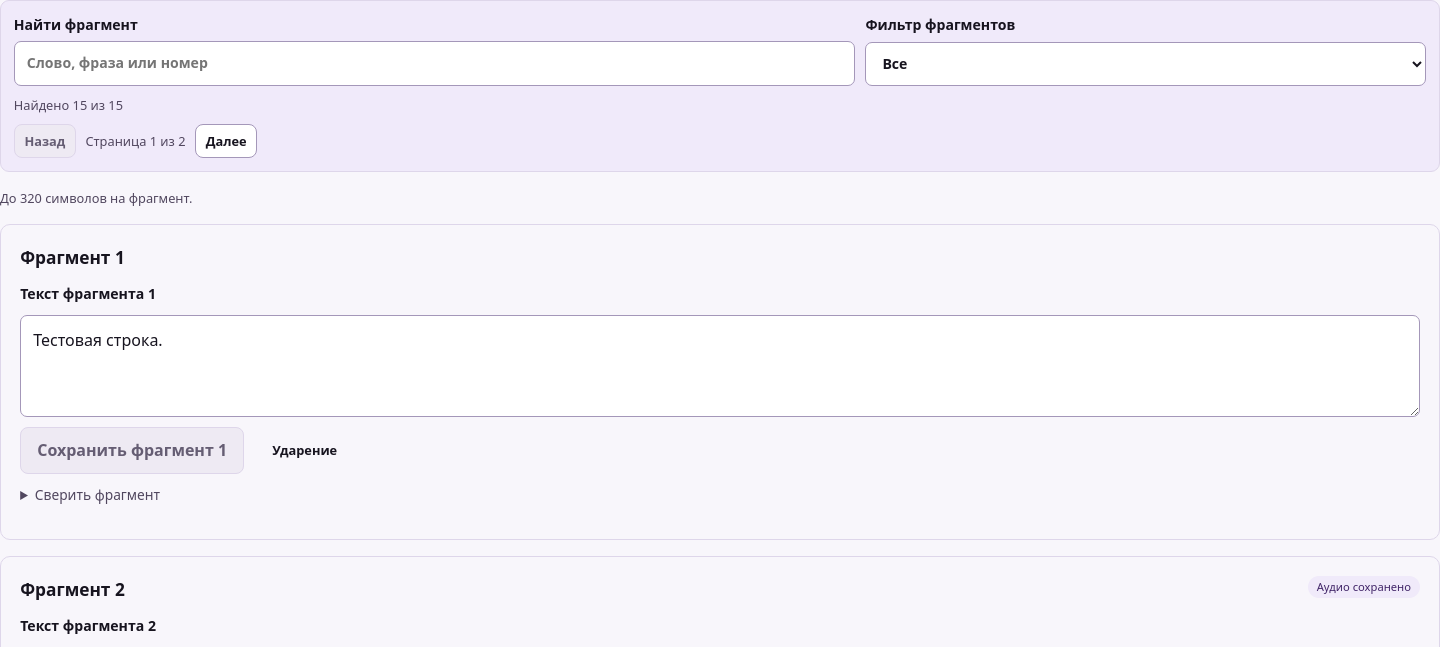
Test: retains an off-page draft through filtering and saves it from the draft list
The width and height of the screenshot is (1440, 647).
Later steps or results of the test are not shown.
expect the field labelled "Текст фрагмента 13" is not shown: met
Click the button with aria-label "Следующая страница": (226, 141) top-left (195, 124), bottom-right (257, 158)
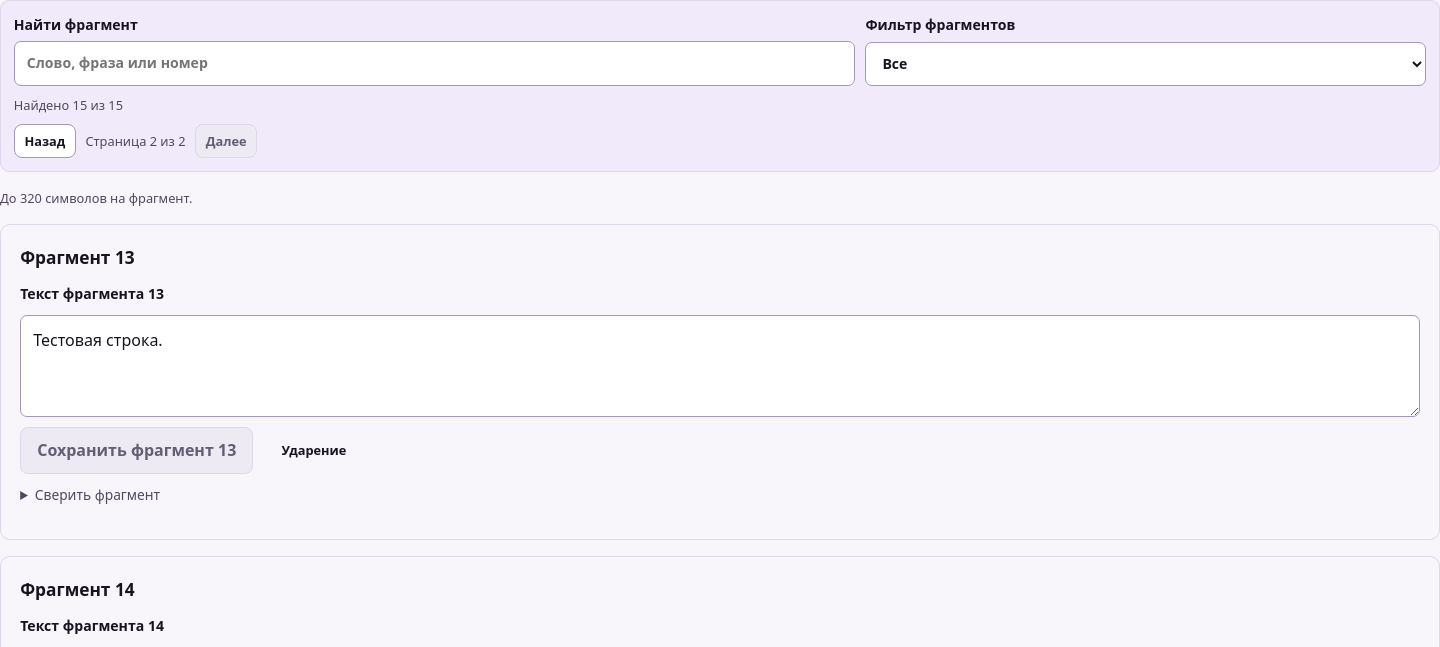
Replace the text in the text box labelled "Текст фрагмента 13" with "Черновик на другой странице.": (720, 366) top-left (20, 315), bottom-right (1420, 417)
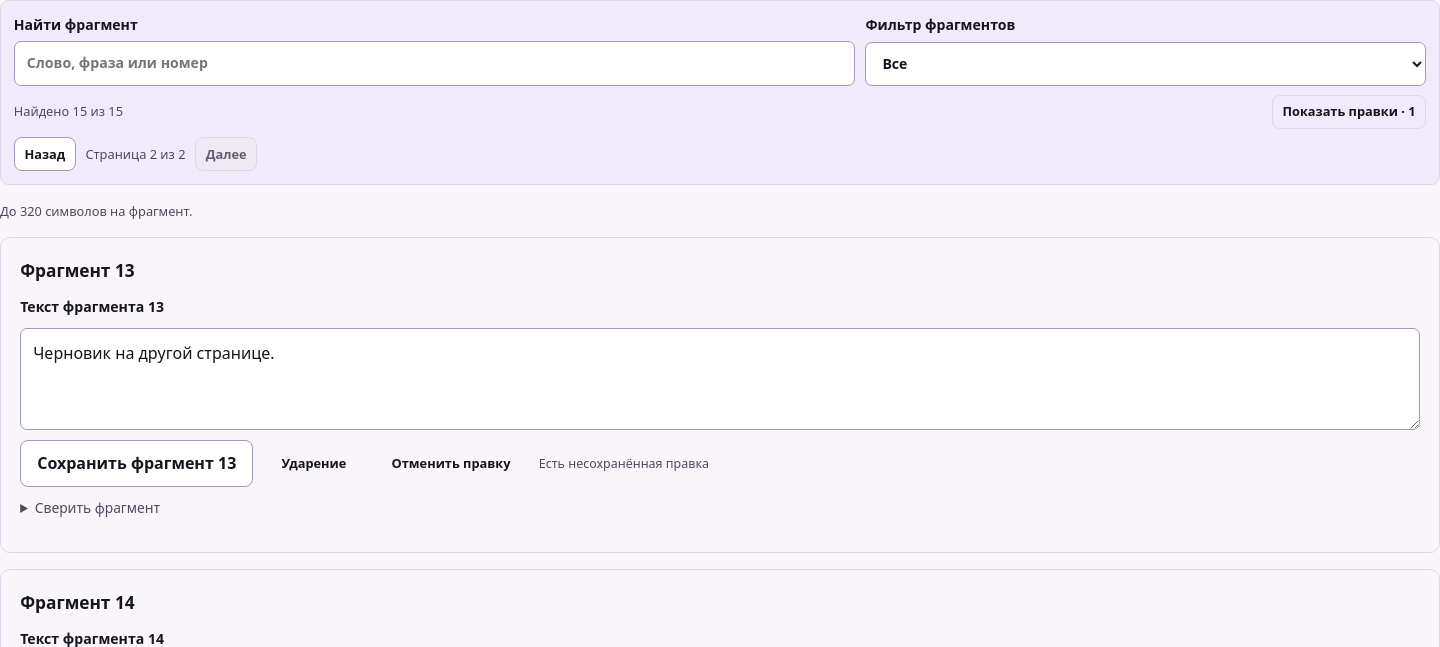
Select "С аудио" in the dropdown labelled "Фильтр фрагментов": (1146, 64) top-left (865, 42), bottom-right (1426, 86)
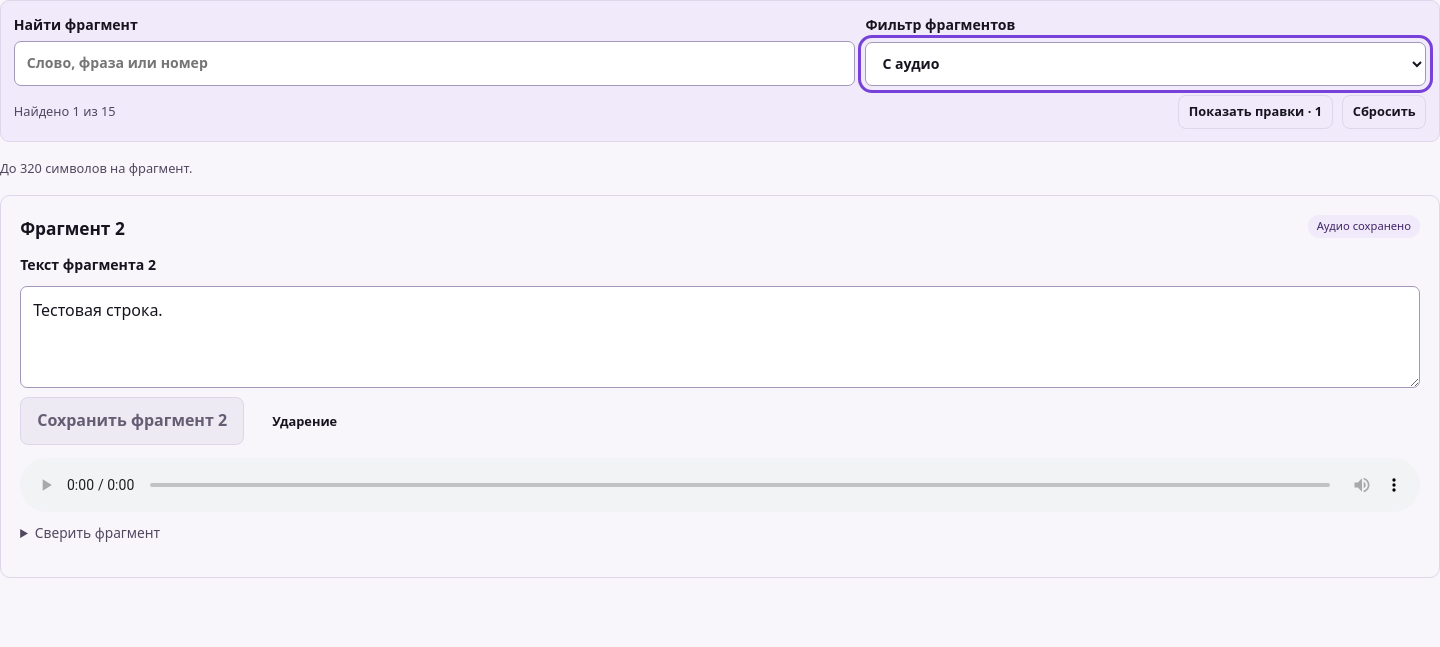
expect the text box labelled "Текст фрагмента 2" is shown: met, box top-left (20, 286), bottom-right (1420, 388)
expect the label labelled "Текст фрагмента 13" is gone: met
Click the button "Показать правки · 1": (1255, 112) top-left (1178, 95), bottom-right (1333, 129)
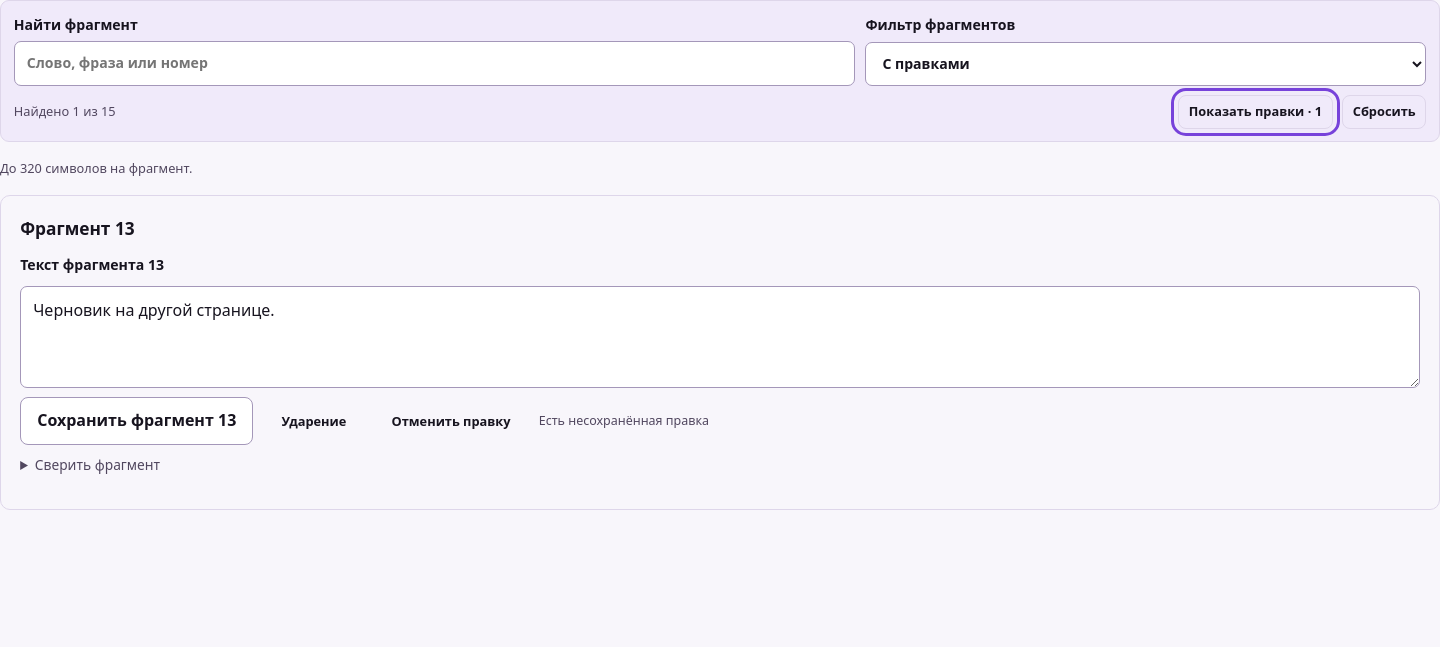
expect the text box labelled "Текст фрагмента 13" holds "Черновик на другой странице.": met, box top-left (20, 286), bottom-right (1420, 388)
